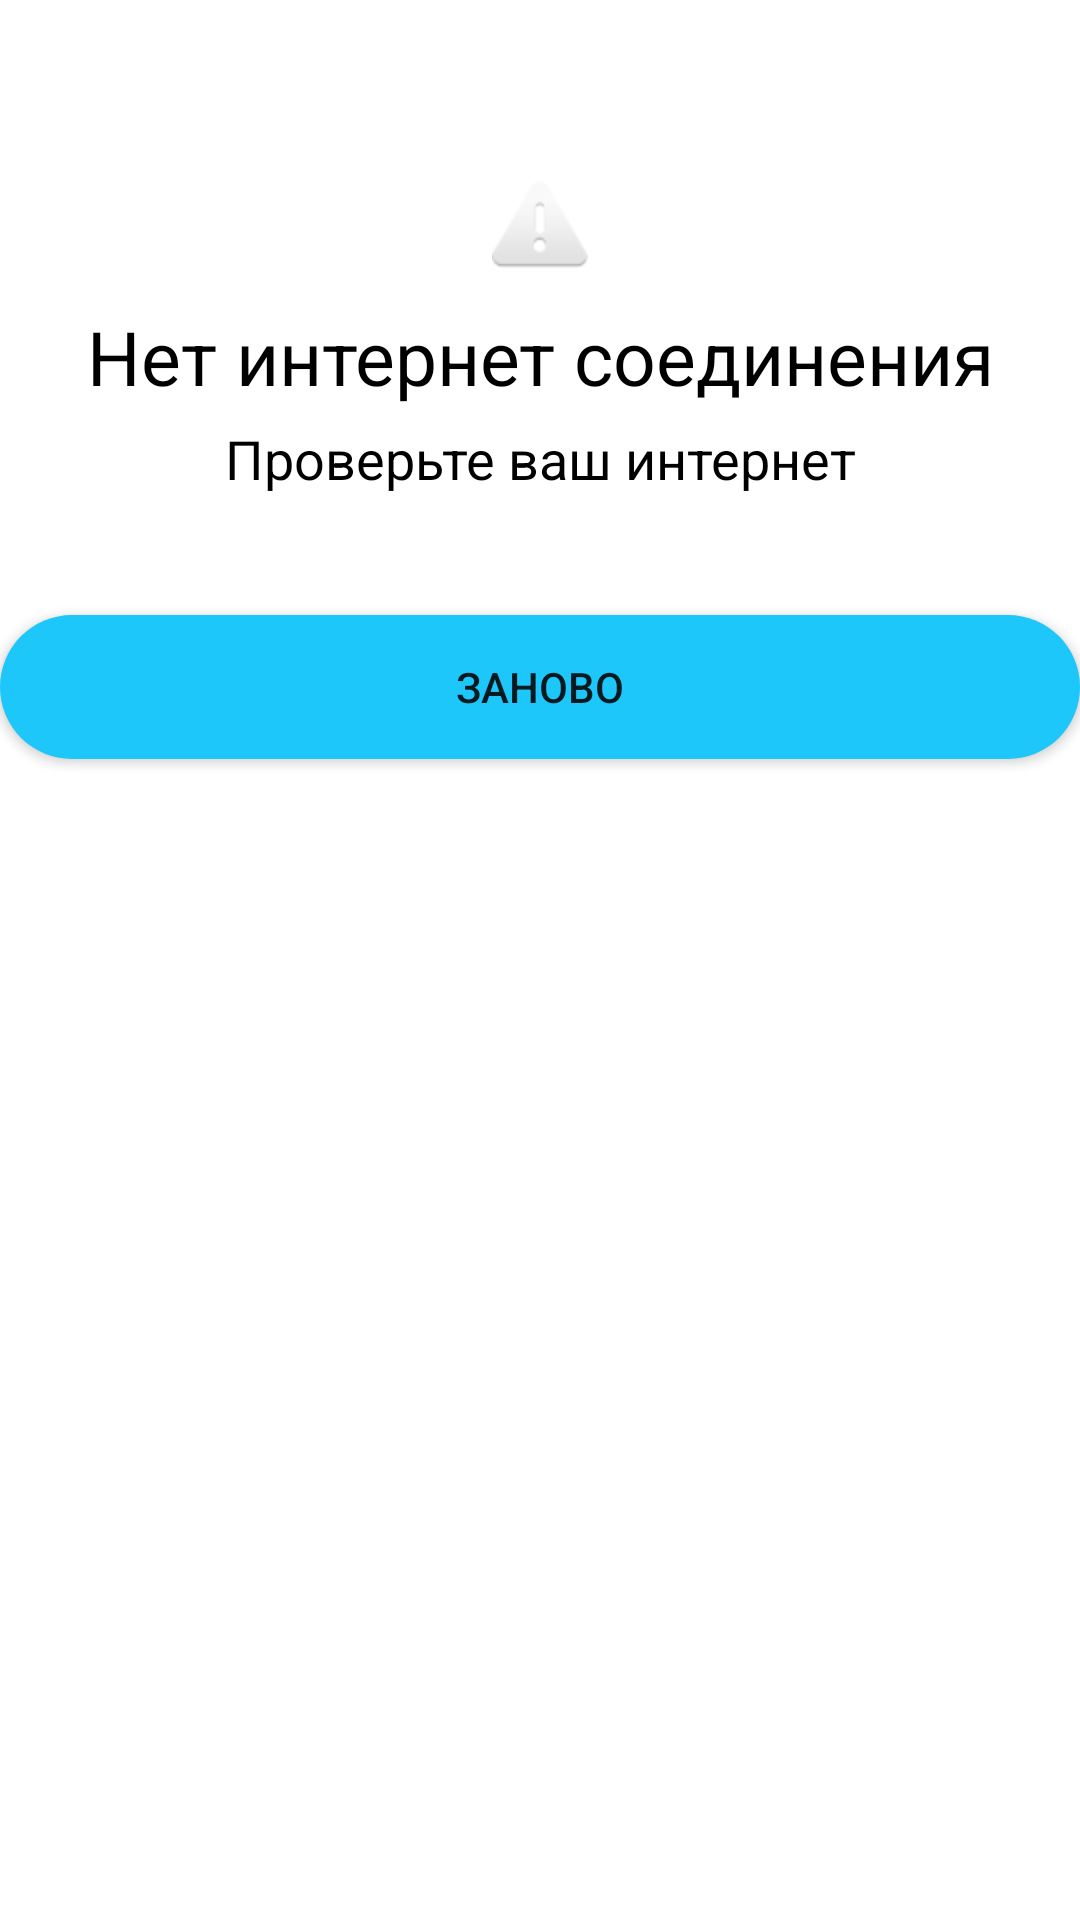

Icon click points for this 1080px x 1920px phone screenshot, format (x=x, y=y):
alert: (x=540, y=234)
